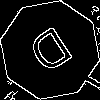D: (25, 25, 81, 83)
